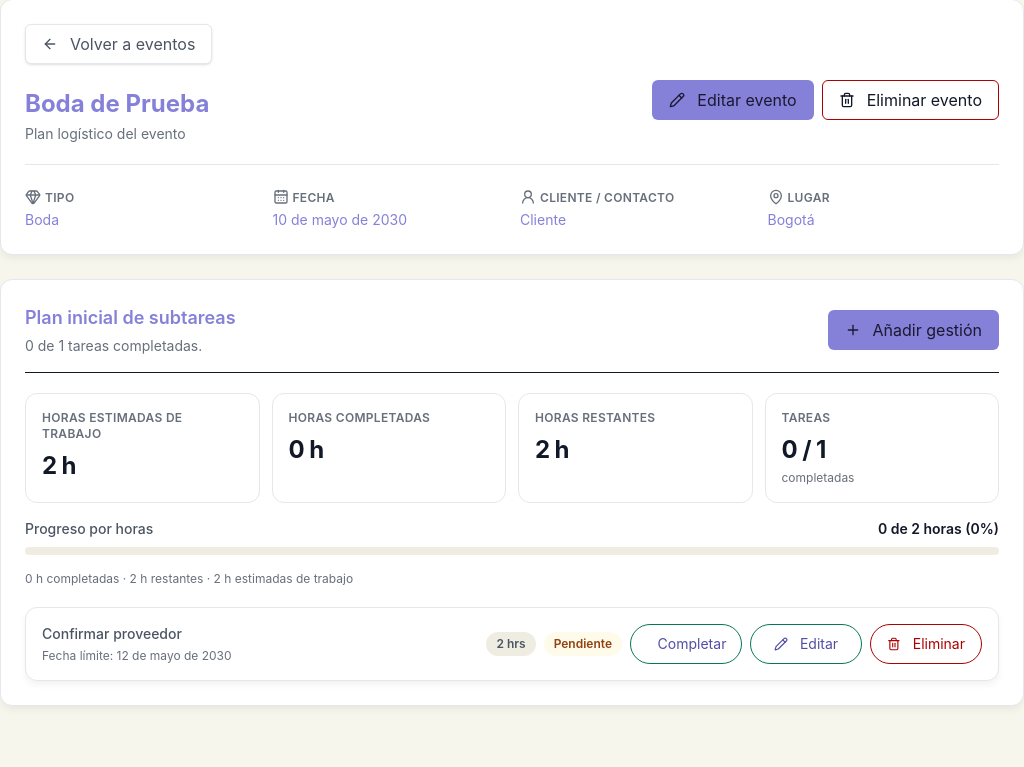
Test: guardado de una gestión editada › avisa como error, no como éxito, cuando resuelto es false
Click the button "Editar" at (806, 644), box x1=750 y1=624 x2=862 y2=664
(page scrolled)
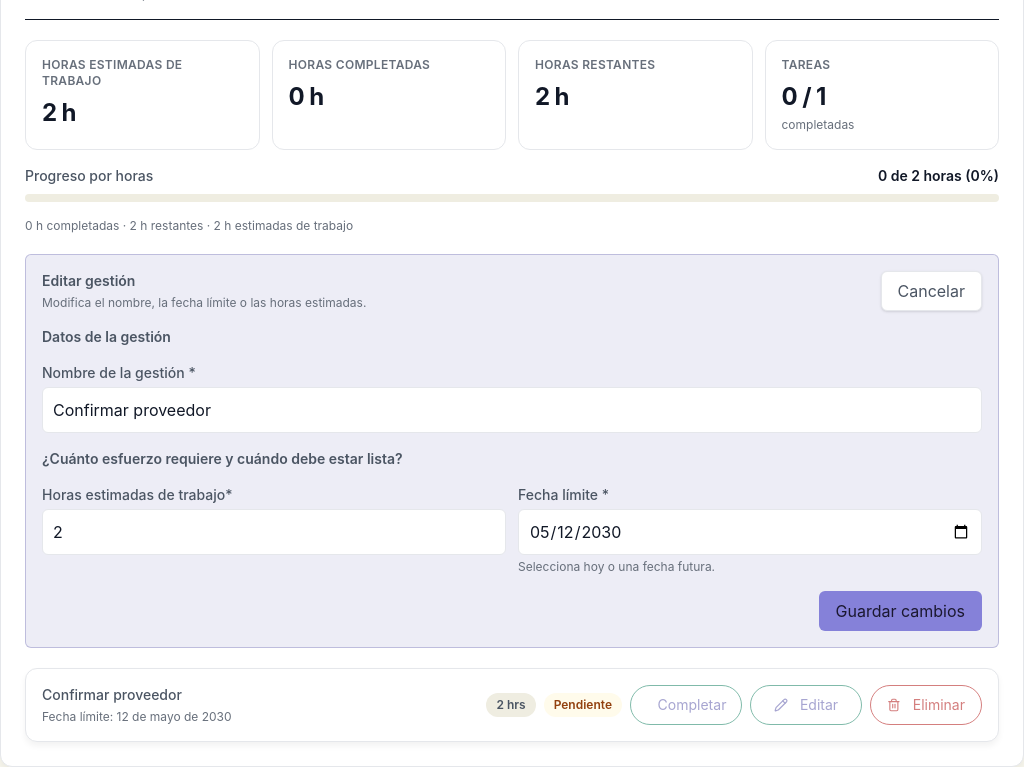
Now the field with id "edit-subtask-title" is shown, box x1=42 y1=387 x2=982 y2=433
Now the form with id "edit-subtask-title" is shown
Submit the form with id "edit-subtask-title", box x1=25 y1=254 x2=999 y2=648
(page scrolled)
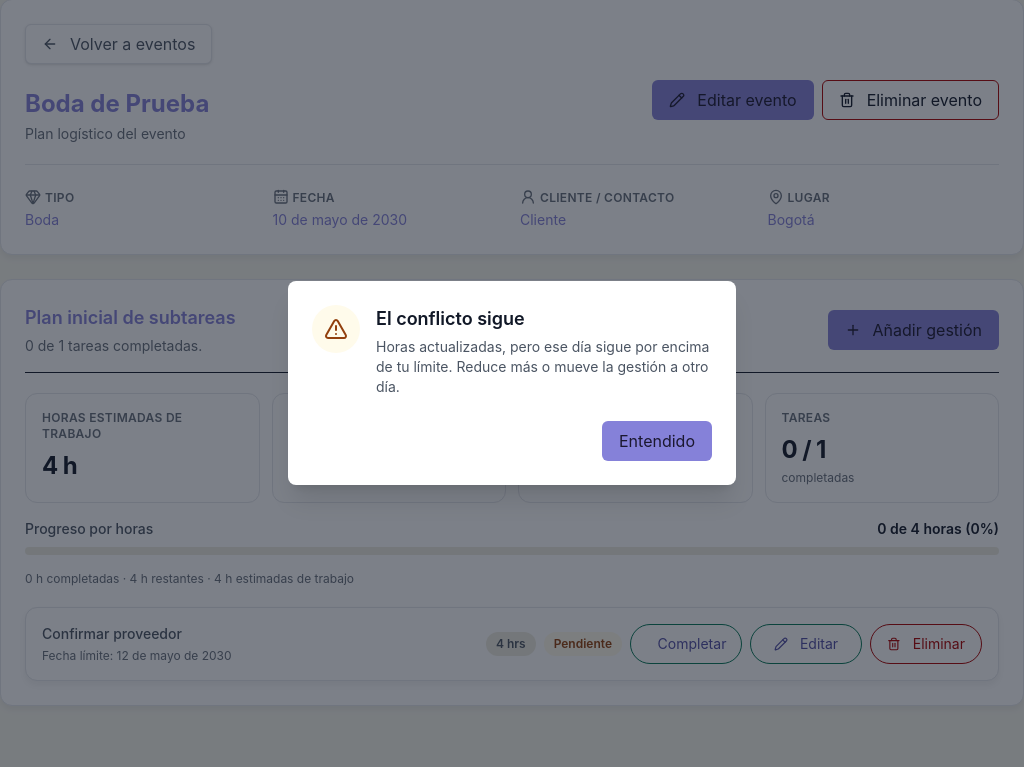
Now the text "ese día sigue por encima de tu límite" is shown, box x1=376 y1=338 x2=709 y2=395
